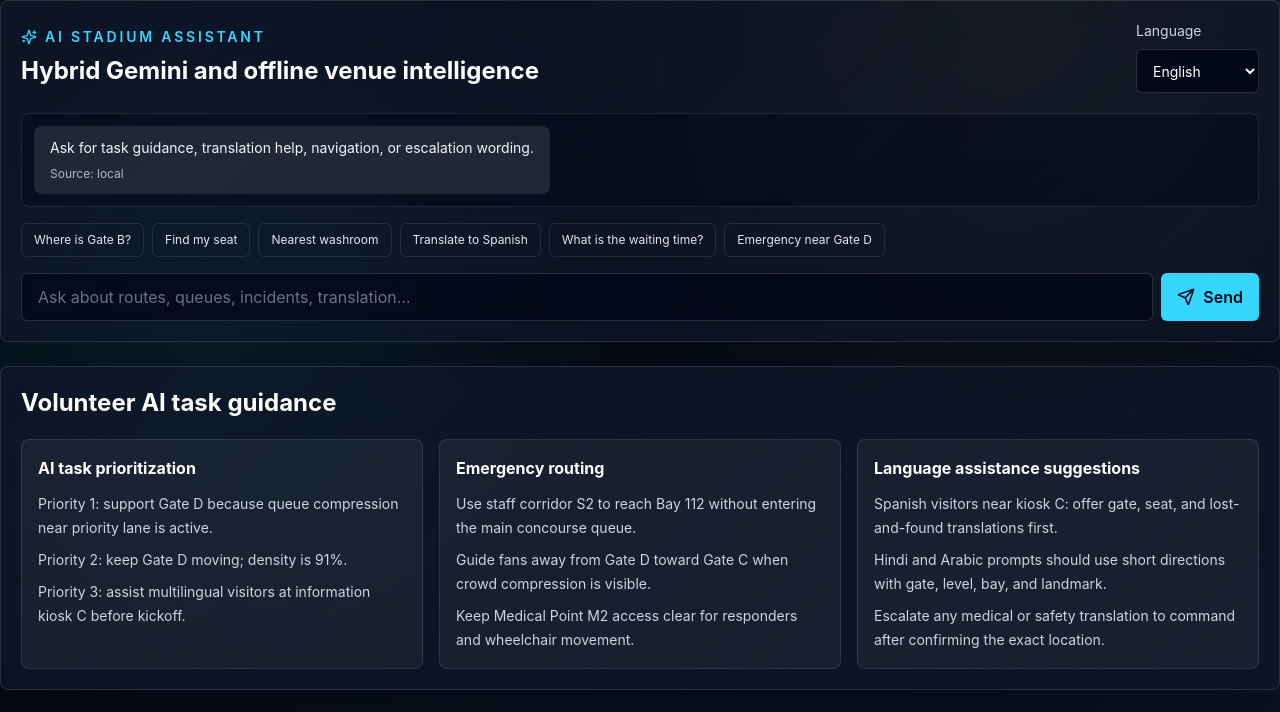
Test: dashboard workflows › renders volunteer task priorities, translation helper, and accessible route workflow
Check: the heading "Language assistance suggestions" is shown, box [874, 458, 1140, 478]
Click the button "Translate to Spanish" at (470, 240), box [400, 223, 541, 257]
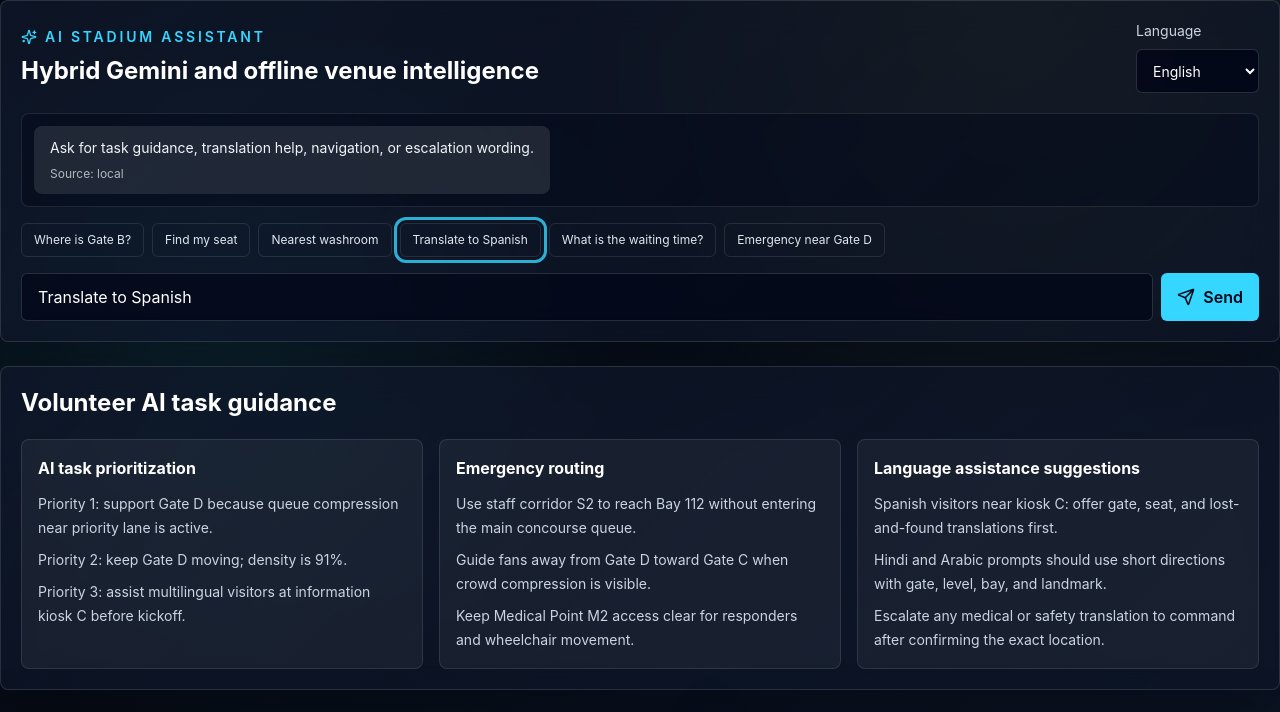
Click the button "Send" at (1210, 297), box [1161, 273, 1259, 321]
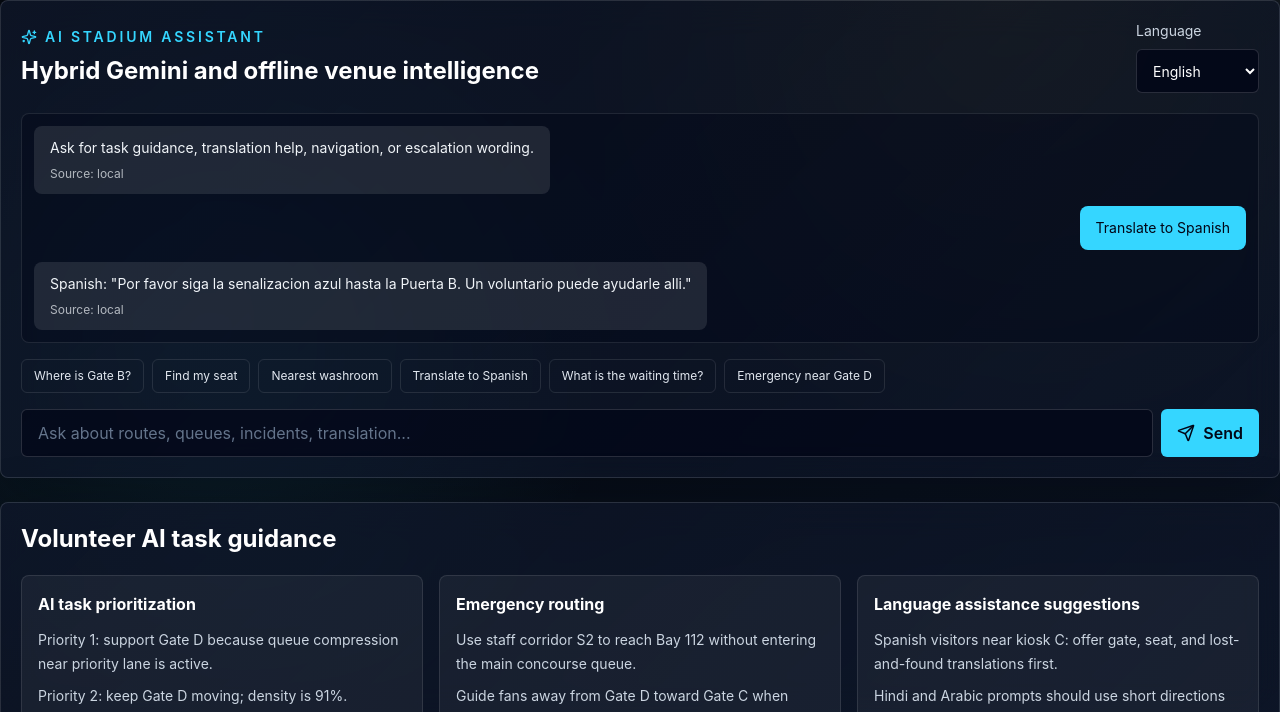
Check: the text "Por favor siga" is shown, box [50, 275, 691, 292]
